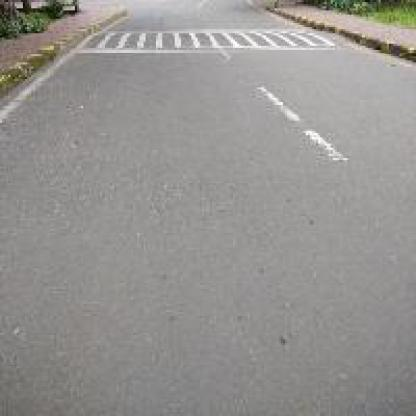Speed Bump: (71, 23, 337, 54)
